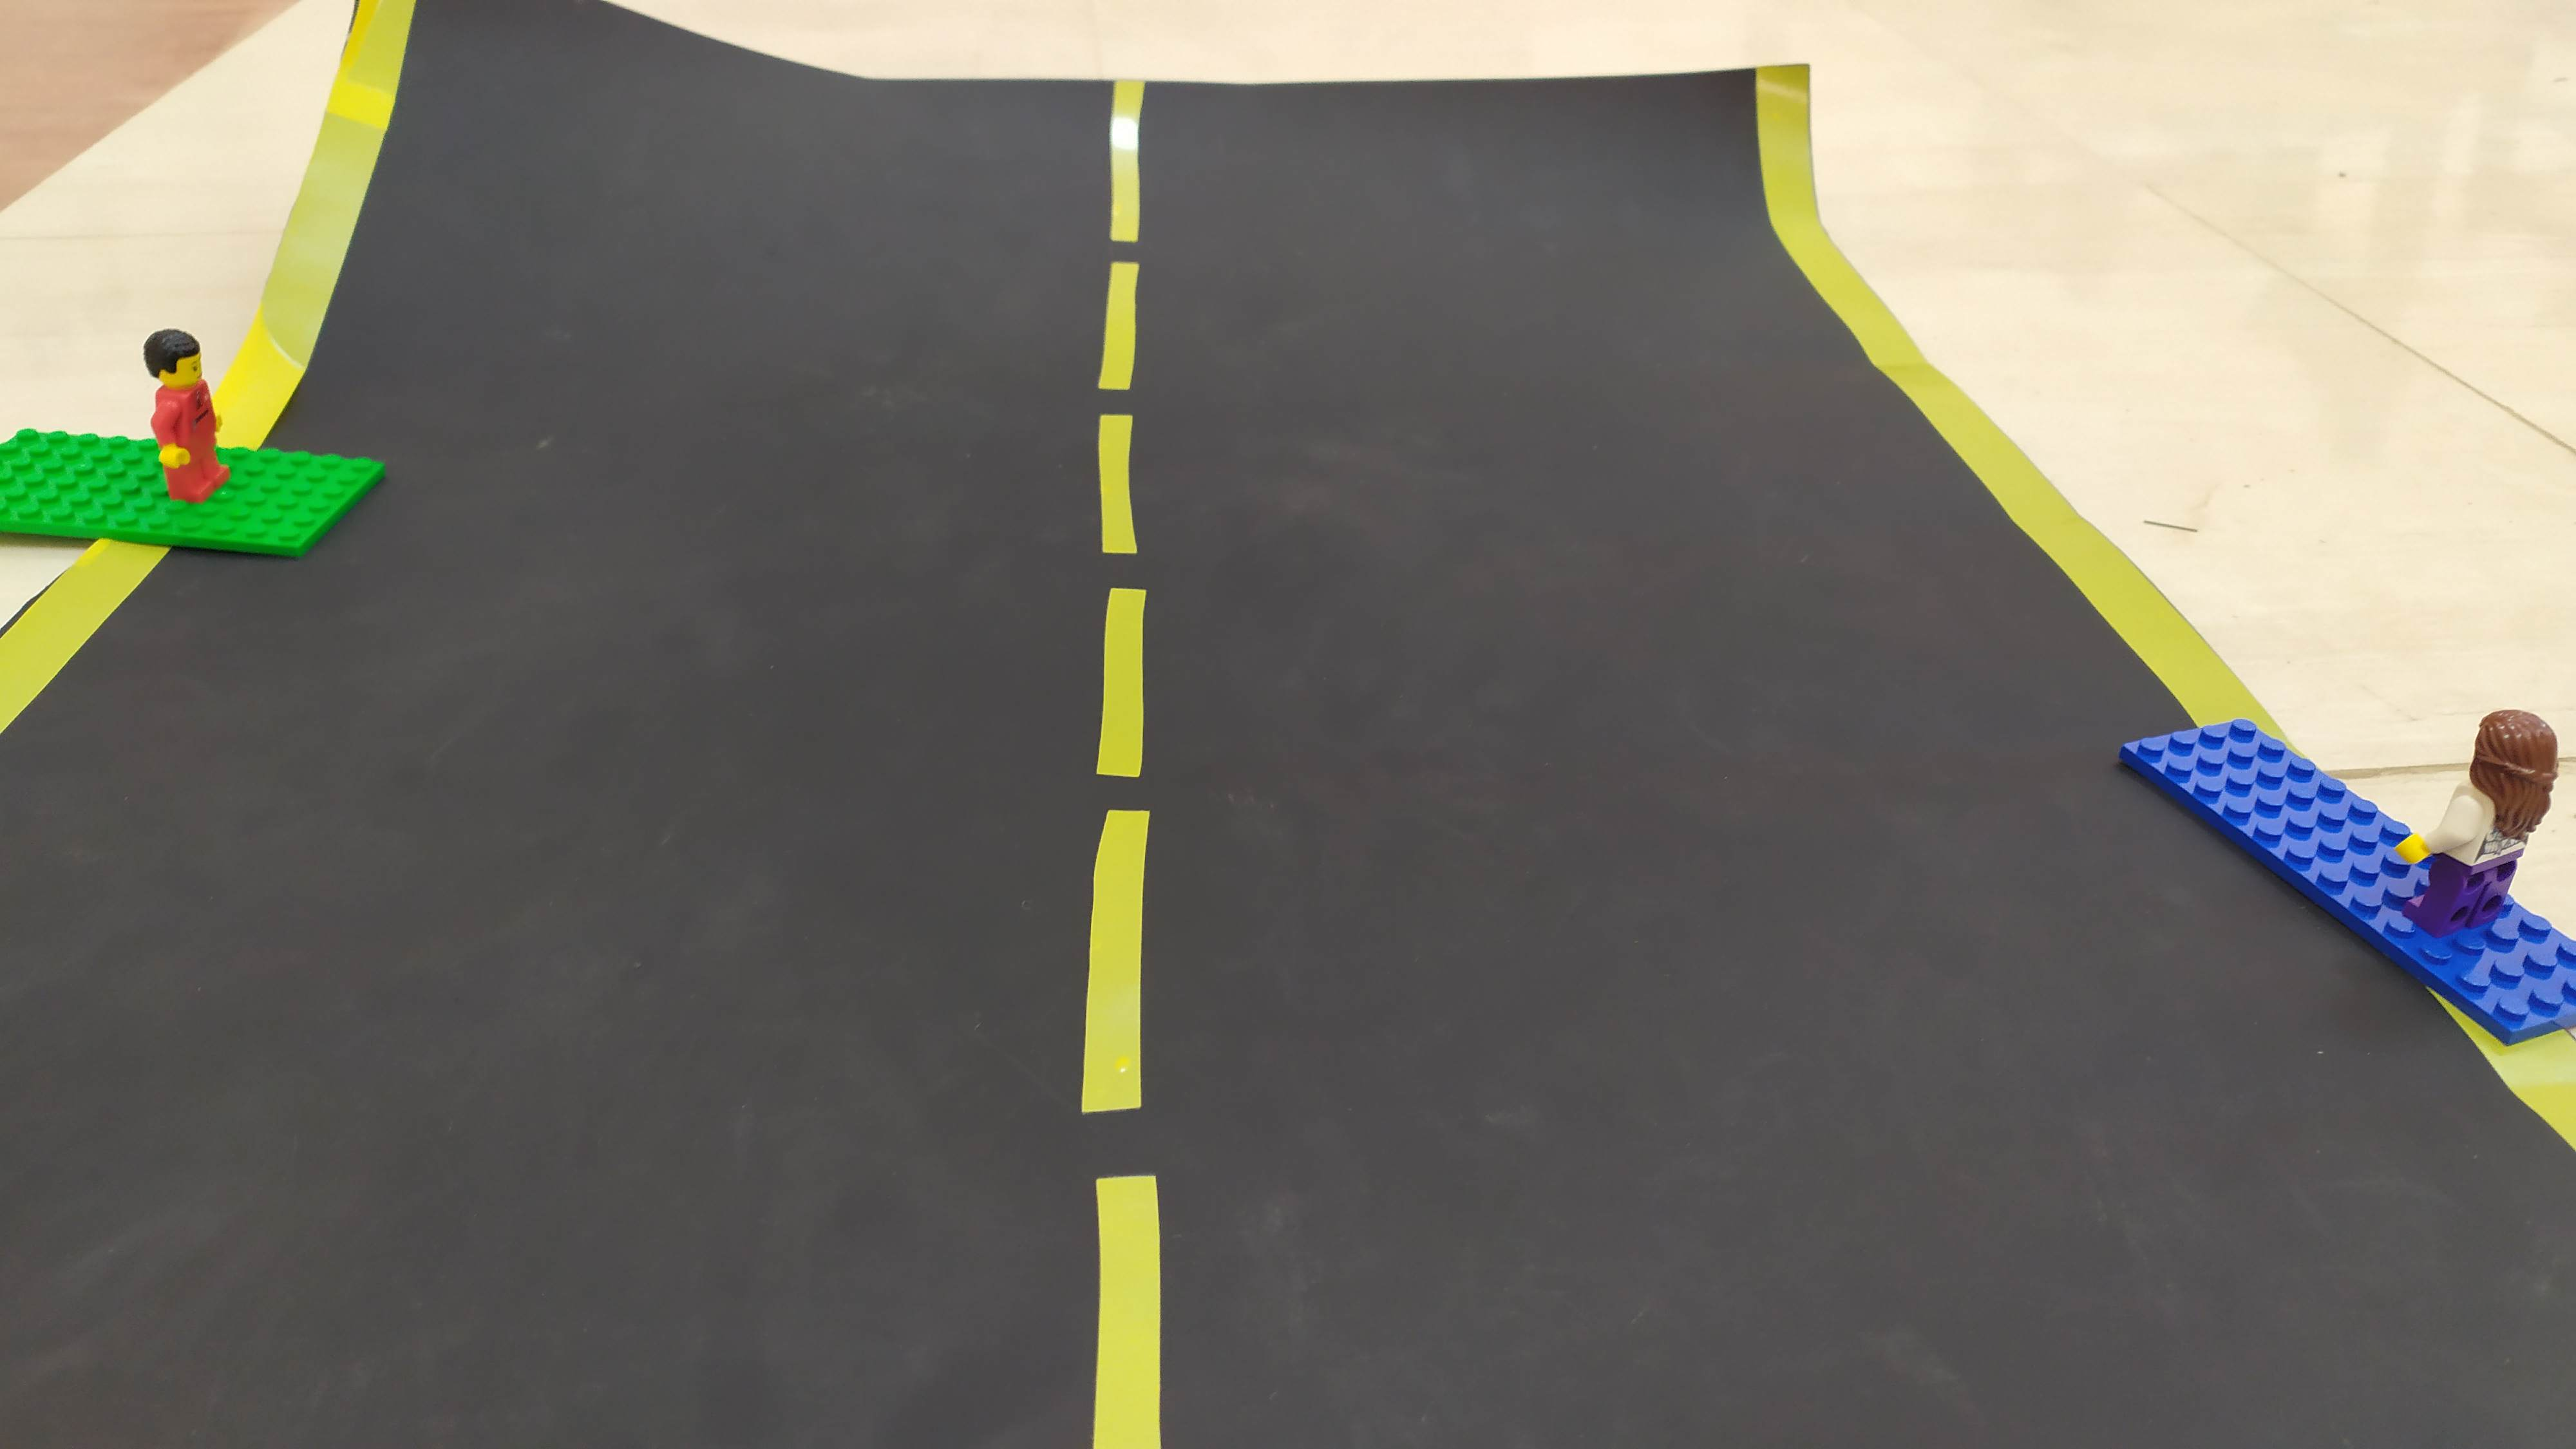Person: (2425, 699, 2553, 956), (113, 332, 261, 499)
